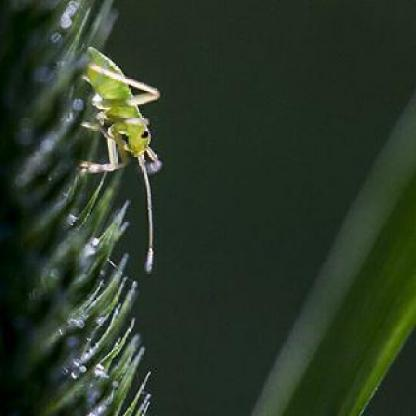aphid: (68, 42, 174, 264)
